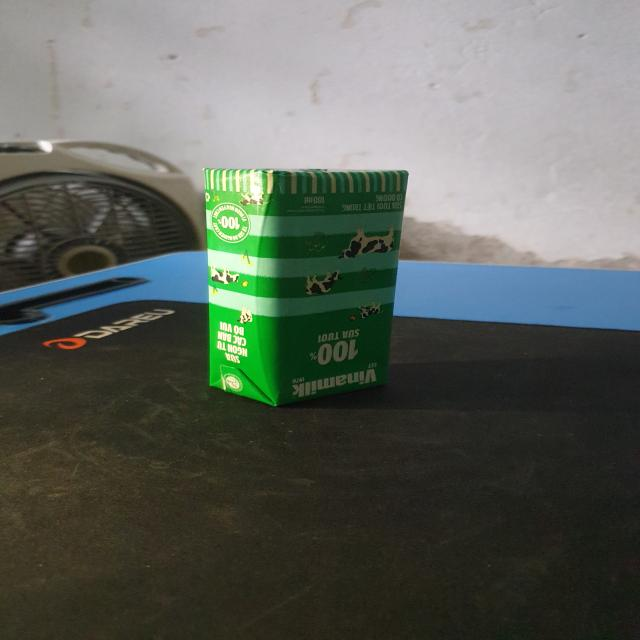Vina: (184, 164, 413, 409)
